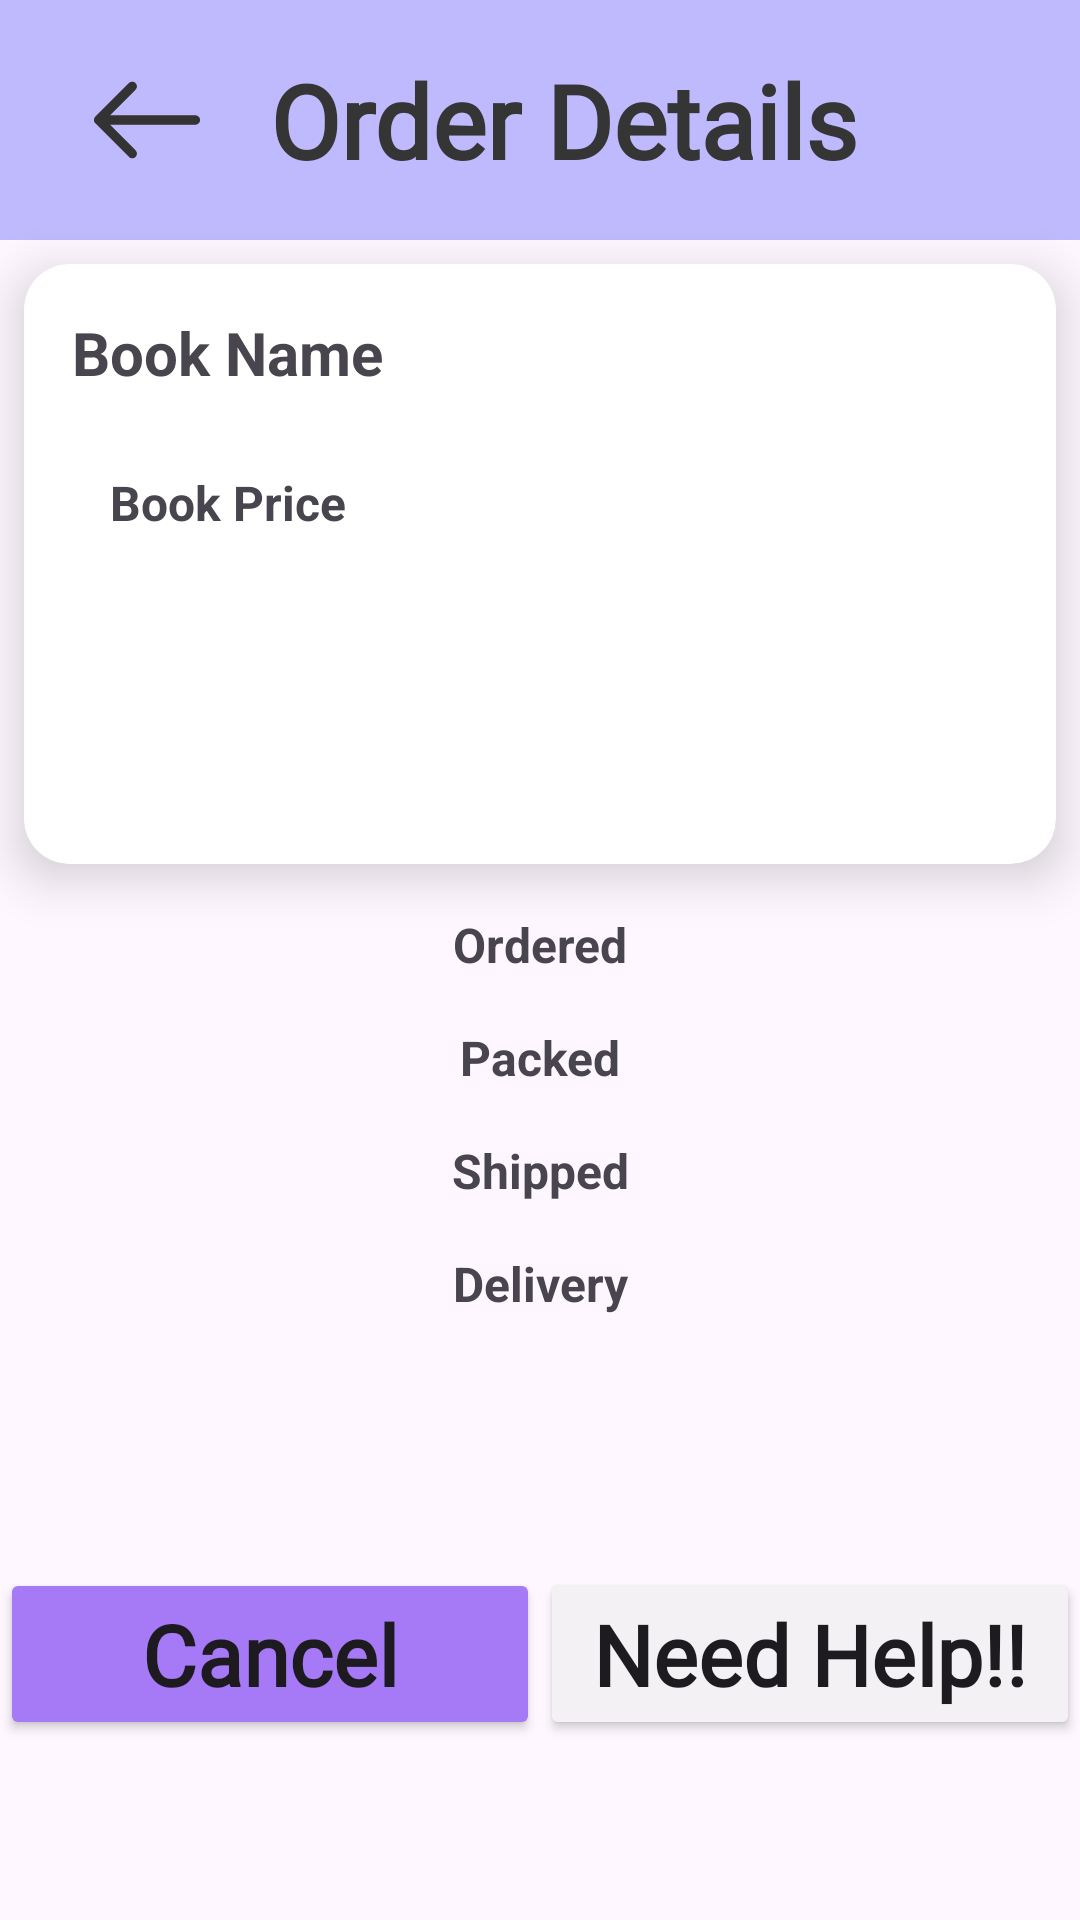

Point at icon controls on the screen. Image size 1080 × 1920, points as (x,y).
arrow back basic: (147,120)
